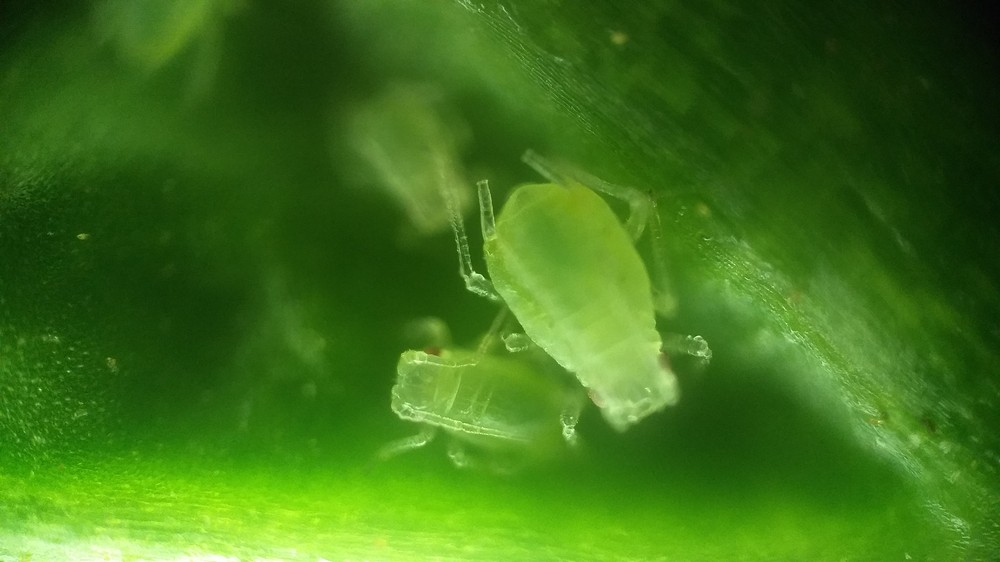Pulgon: (463, 157, 731, 444), (386, 319, 608, 481)
